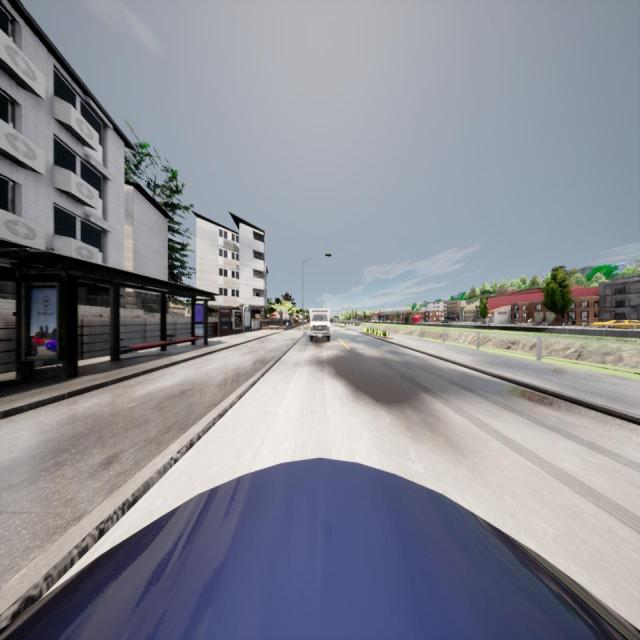Vehicle: (0, 455, 640, 640), (309, 308, 330, 341), (588, 319, 640, 327)
